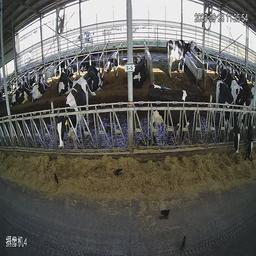cow: (146, 81, 204, 159), (53, 76, 93, 150), (215, 80, 240, 165), (231, 76, 255, 163), (162, 33, 194, 82), (105, 38, 123, 81), (129, 50, 146, 95), (31, 73, 52, 103), (89, 64, 108, 94), (17, 74, 34, 107), (187, 29, 202, 64), (78, 52, 94, 74)
